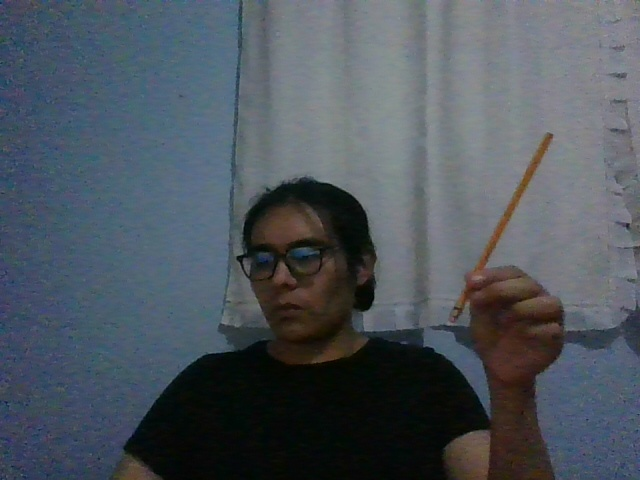lapiz: (449, 131, 553, 323)
